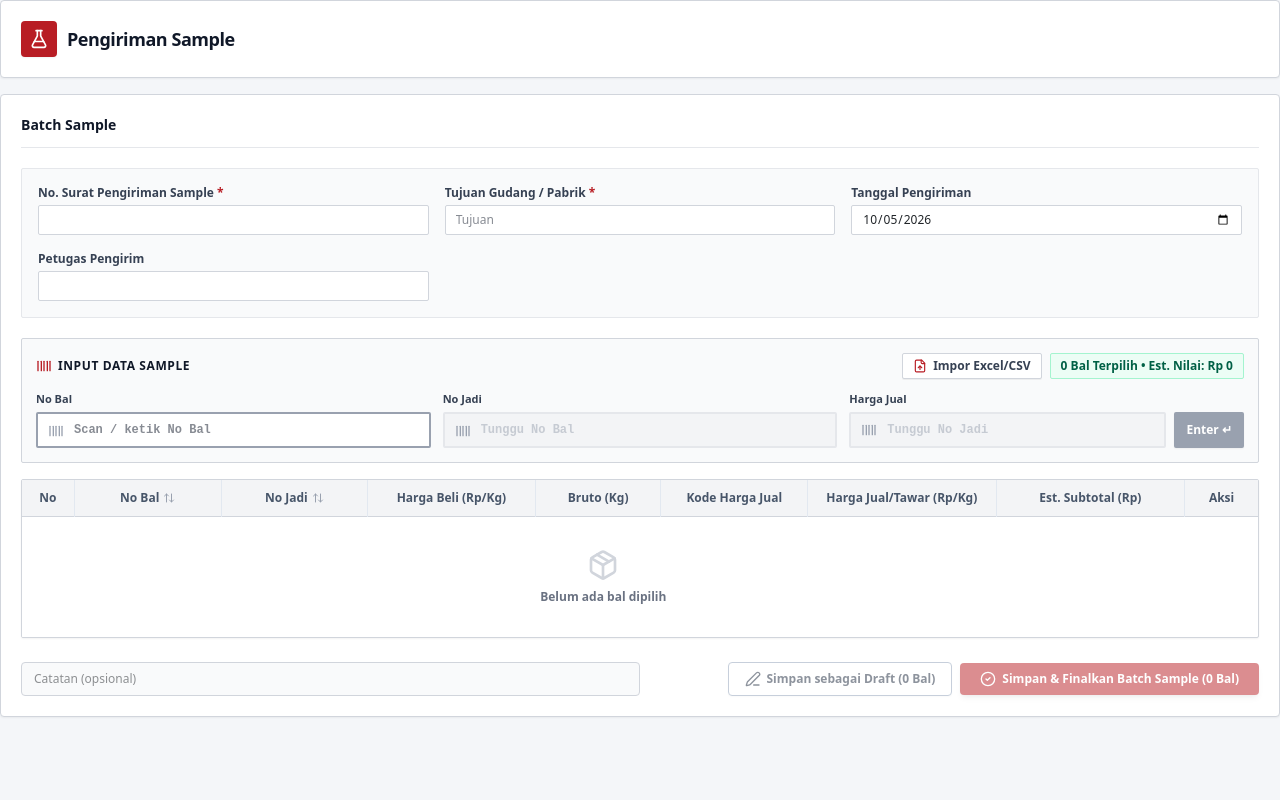
Test: Pengiriman Sample: bal yang sudah disortir boleh dipilih walau belum ditimbang dan belum dibayar › bal yang sudah dikirim (keluar) tetap ditolak
This screenshot has width=1280, height=800.
In the field with placeholder "Scan / ketik No Bal": (233, 430) [36, 412, 431, 448], type "HF0008"
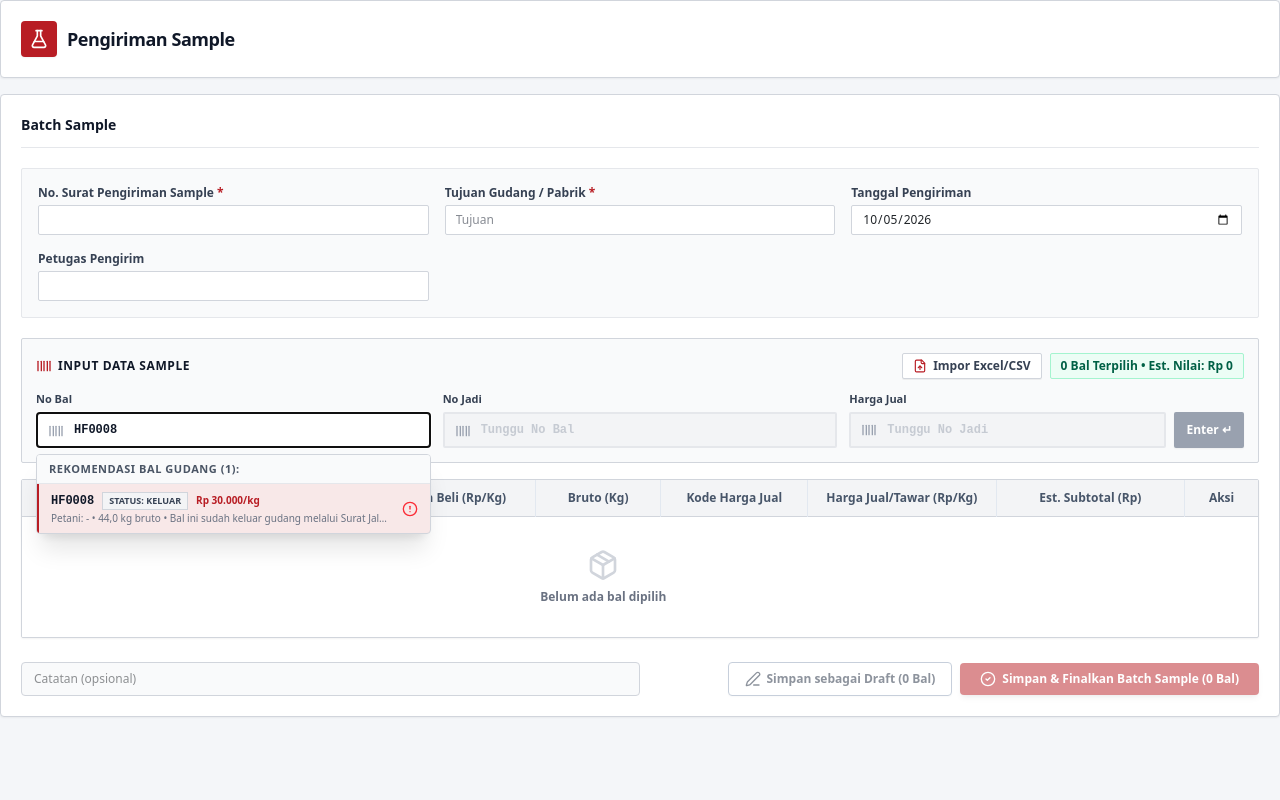
Expected: the text "STATUS: KELUAR" is shown, [102, 492, 188, 510]
